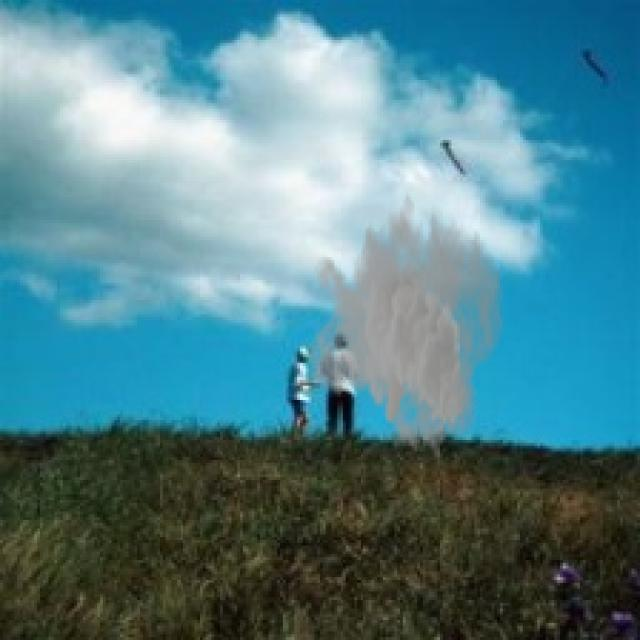Smoke: (306, 183, 506, 463)
